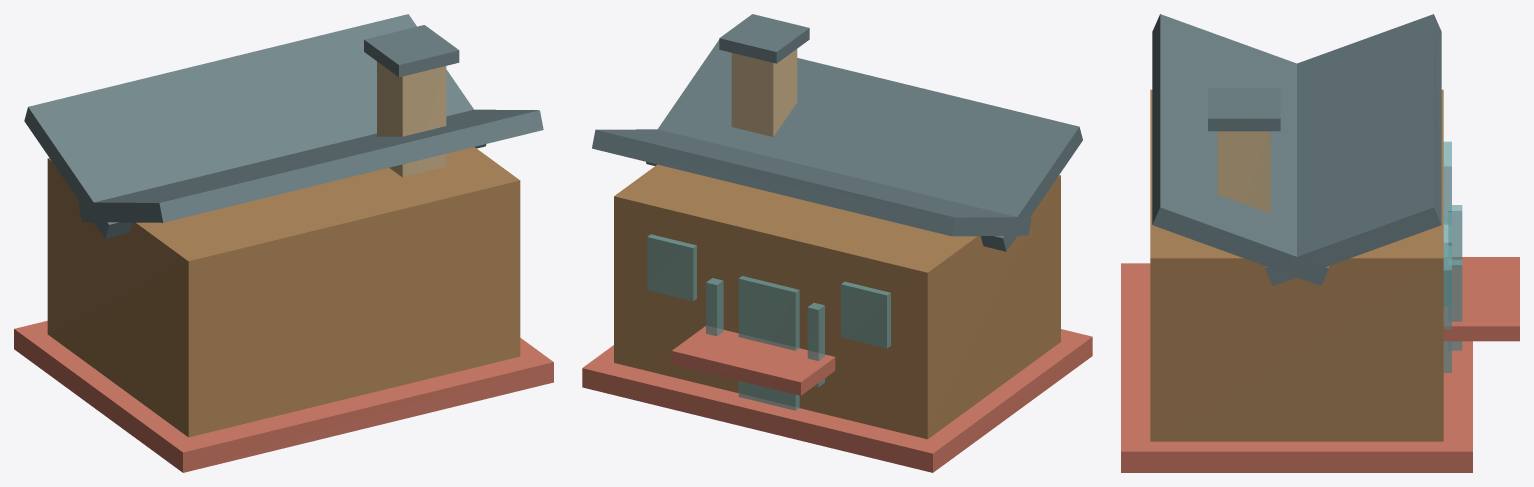
Rendered from cottage.source.glb.
The picture shows the model from 3 angles, left to right: view 1: azimuth 30°, elevation 25°; view 2: azimuth 150°, elevation 25°; view 3: azimuth 270°, elevation 25°; orthographic projection. The views are drawn at different scales.
Visible parts, largest first — view 1: cottage-timber-cottage-shell-mesh, cottage-left-roof-slope-mesh, cottage-concrete-foundation-mesh, cottage-right-roof-slope-mesh, cottage-stone-chimney-mesh, cottage-chimney-cap-mesh; view 2: cottage-timber-cottage-shell-mesh, cottage-right-roof-slope-mesh, cottage-concrete-foundation-mesh, cottage-left-roof-slope-mesh, cottage-covered-stoop-mesh, cottage-front-door-mesh, cottage-stone-chimney-mesh, cottage-chimney-cap-mesh, cottage-shuttered-window--1.05-mesh, cottage-shuttered-window-1.05-mesh, cottage-stoop-post--0.55-mesh, cottage-stoop-post-0.55-mesh; view 3: cottage-timber-cottage-shell-mesh, cottage-left-roof-slope-mesh, cottage-right-roof-slope-mesh, cottage-concrete-foundation-mesh, cottage-covered-stoop-mesh, cottage-stone-chimney-mesh, cottage-chimney-cap-mesh, cottage-stoop-post-0.55-mesh, cottage-front-door-mesh, cottage-stoop-post--0.55-mesh, cottage-shuttered-window-1.05-mesh, cottage-shuttered-window--1.05-mesh.
Boxes of the visible parts, x1,y1,x2,y2 form: cottage-timber-cottage-shell-mesh: (47, 147, 520, 437); cottage-left-roof-slope-mesh: (24, 14, 486, 238); cottage-concrete-foundation-mesh: (14, 320, 553, 472); cottage-right-roof-slope-mesh: (78, 109, 543, 222); cottage-stone-chimney-mesh: (377, 61, 446, 177); cottage-chimney-cap-mesh: (364, 25, 459, 77); cottage-timber-cottage-shell-mesh: (614, 164, 1060, 439); cottage-right-roof-slope-mesh: (646, 40, 1082, 251); cottage-concrete-foundation-mesh: (582, 329, 1092, 472); cottage-left-roof-slope-mesh: (592, 129, 1031, 236); cottage-covered-stoop-mesh: (671, 326, 835, 395); cottage-front-door-mesh: (738, 276, 799, 410); cottage-stone-chimney-mesh: (731, 49, 797, 136); cottage-chimney-cap-mesh: (719, 14, 809, 63); cottage-shuttered-window--1.05-mesh: (841, 281, 890, 348); cottage-shuttered-window-1.05-mesh: (647, 234, 696, 301); cottage-stoop-post--0.55-mesh: (807, 302, 824, 387); cottage-stoop-post-0.55-mesh: (706, 278, 723, 336); cottage-timber-cottage-shell-mesh: (1150, 89, 1443, 441); cottage-left-roof-slope-mesh: (1265, 14, 1441, 285); cottage-right-roof-slope-mesh: (1152, 14, 1328, 285); cottage-concrete-foundation-mesh: (1121, 263, 1472, 472); cottage-covered-stoop-mesh: (1443, 257, 1519, 341); cottage-stone-chimney-mesh: (1217, 131, 1270, 213); cottage-chimney-cap-mesh: (1208, 88, 1280, 131); cottage-stoop-post-0.55-mesh: (1448, 259, 1462, 350); cottage-front-door-mesh: (1443, 212, 1451, 372); cottage-stoop-post--0.55-mesh: (1448, 205, 1462, 266); cottage-shuttered-window-1.05-mesh: (1443, 245, 1451, 328); cottage-shuttered-window--1.05-mesh: (1443, 141, 1451, 223).
Size of the model in its own units: 3.9 by 3.08 by 3.4.
